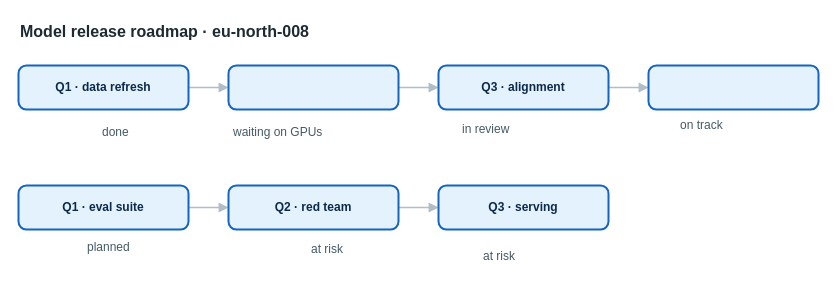
This 836x281 diagram has some shape labels left out. The centre of each missing label's shape, as x and y in pixels:
Q2 · pretrain: point (313, 87)
Q4 · launch: point (733, 87)
